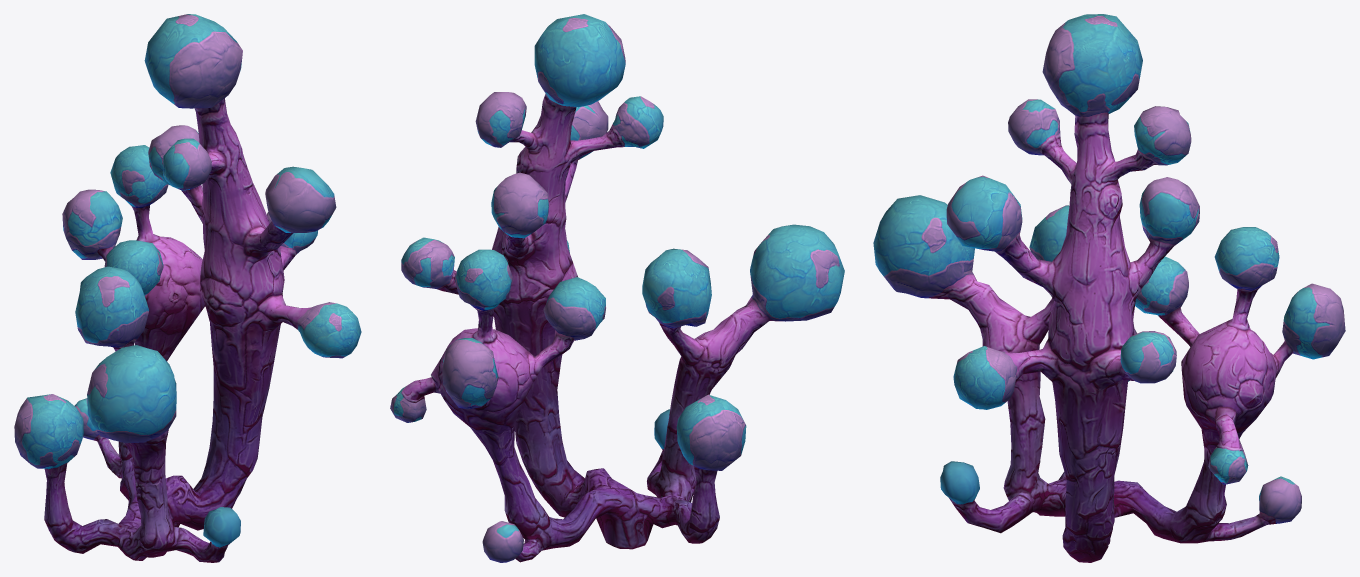
The model's file is VegetationSmall01.fbx.
The picture shows the model from 3 angles, left to right: view 1: azimuth 30°, elevation 25°; view 2: azimuth 150°, elevation 25°; view 3: azimuth 270°, elevation 25°; orthographic projection. The views are drawn at different scales.
Visible parts, largest first — view 1: VegetationSmall01_LOD00; view 2: VegetationSmall01_LOD00; view 3: VegetationSmall01_LOD00.
Boxes of the visible parts, x1,y1,x2,y2 form: VegetationSmall01_LOD00: [14, 14, 361, 562]; VegetationSmall01_LOD00: [390, 14, 844, 562]; VegetationSmall01_LOD00: [873, 14, 1345, 562].
Size of what is drawn, in the model's own units: 141 by 210 by 164.
